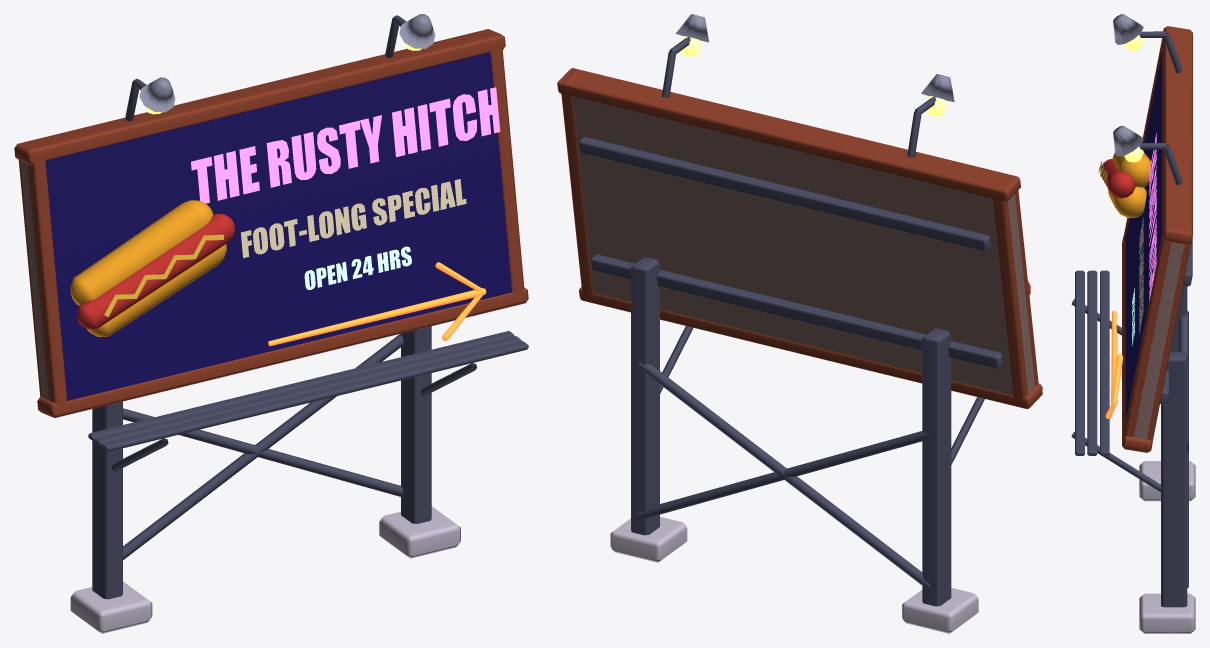
The model's file is billboard_hitch.glb.
3 views of the same model, side by side, from view 1: azimuth 30°, elevation 25°; view 2: azimuth 150°, elevation 25°; view 3: azimuth 270°, elevation 25° (orthographic). The views are drawn at different scales.
Parts seen in each view (by area): view 1: Billboard.001; view 2: Billboard.001; view 3: Billboard.001.
Boxes of the visible parts, x1,y1,x2,y2 form: Billboard.001: [14, 14, 528, 633]; Billboard.001: [557, 14, 1042, 633]; Billboard.001: [1071, 14, 1195, 633].
Size of the model in its own units: 2.94 by 3.26 by 0.7524.
